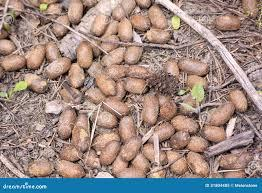Elk: (61, 53, 210, 169)
